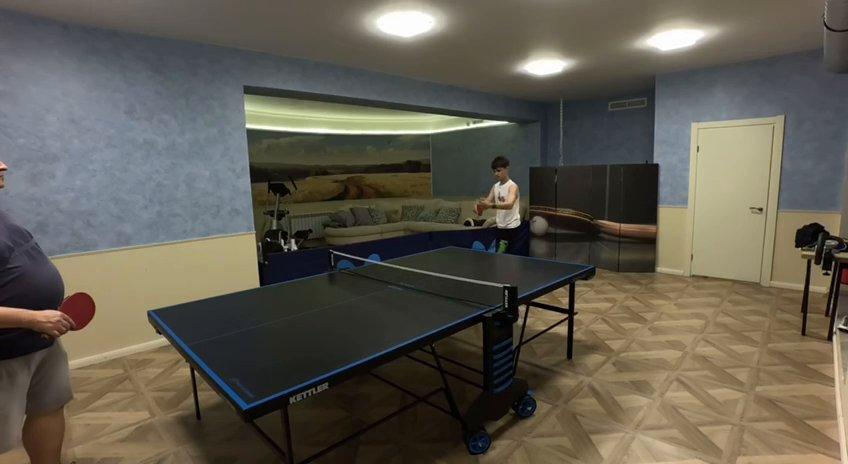Net: (327, 251, 515, 308)
Player1: (483, 156, 519, 254)
Player2: (0, 210, 77, 463)
Table: (149, 247, 594, 409)
